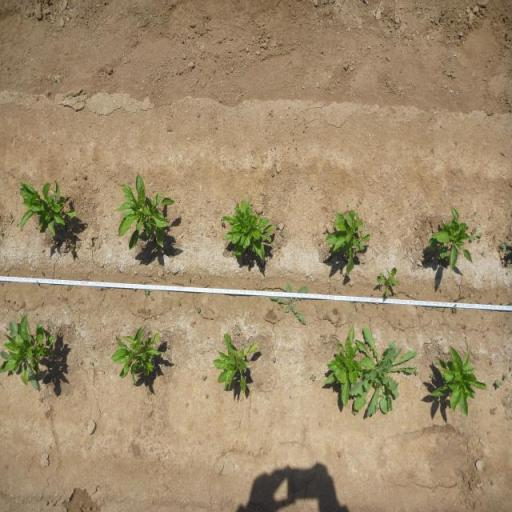plant: (111, 169, 176, 255), (14, 174, 80, 238), (434, 344, 486, 420), (321, 206, 372, 278), (224, 197, 275, 265), (424, 202, 470, 276), (111, 324, 163, 387), (320, 323, 360, 403), (212, 334, 260, 398), (6, 320, 55, 375)
weed: (360, 324, 418, 418), (268, 282, 310, 328), (376, 266, 400, 298), (469, 226, 484, 242), (498, 240, 507, 252), (495, 378, 503, 390), (504, 249, 512, 258), (189, 320, 197, 328), (452, 304, 458, 314), (479, 250, 486, 258), (220, 217, 225, 227), (502, 372, 508, 380), (310, 374, 316, 382), (360, 302, 366, 310), (143, 290, 151, 296), (66, 285, 72, 292), (147, 308, 152, 316), (274, 224, 280, 230), (506, 232, 512, 238), (195, 307, 201, 313), (201, 375, 208, 380), (165, 352, 170, 359), (280, 229, 284, 237), (276, 243, 282, 248), (507, 258, 512, 264), (204, 394, 210, 399), (322, 314, 326, 321), (177, 299, 181, 306), (429, 373, 434, 378), (272, 357, 276, 363), (371, 291, 375, 296), (89, 362, 94, 366), (488, 215, 492, 219), (236, 332, 240, 336), (150, 296, 154, 300), (99, 286, 102, 291), (494, 234, 495, 237)
